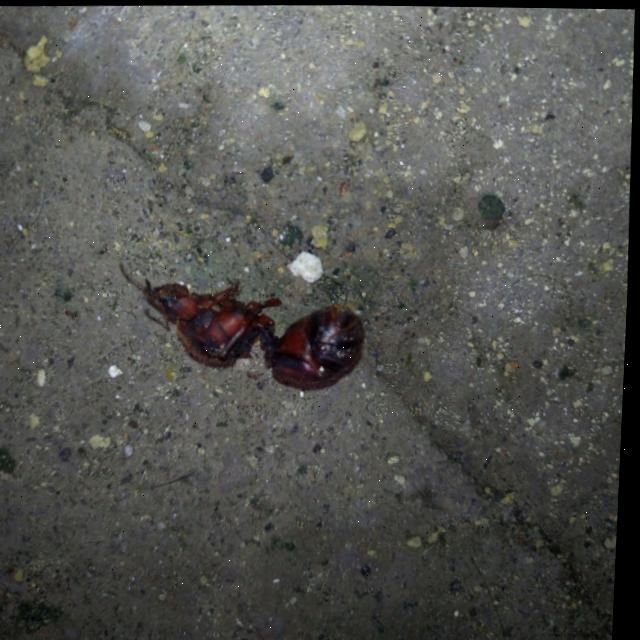Dead-Female-Dealate: (115, 255, 373, 393)
